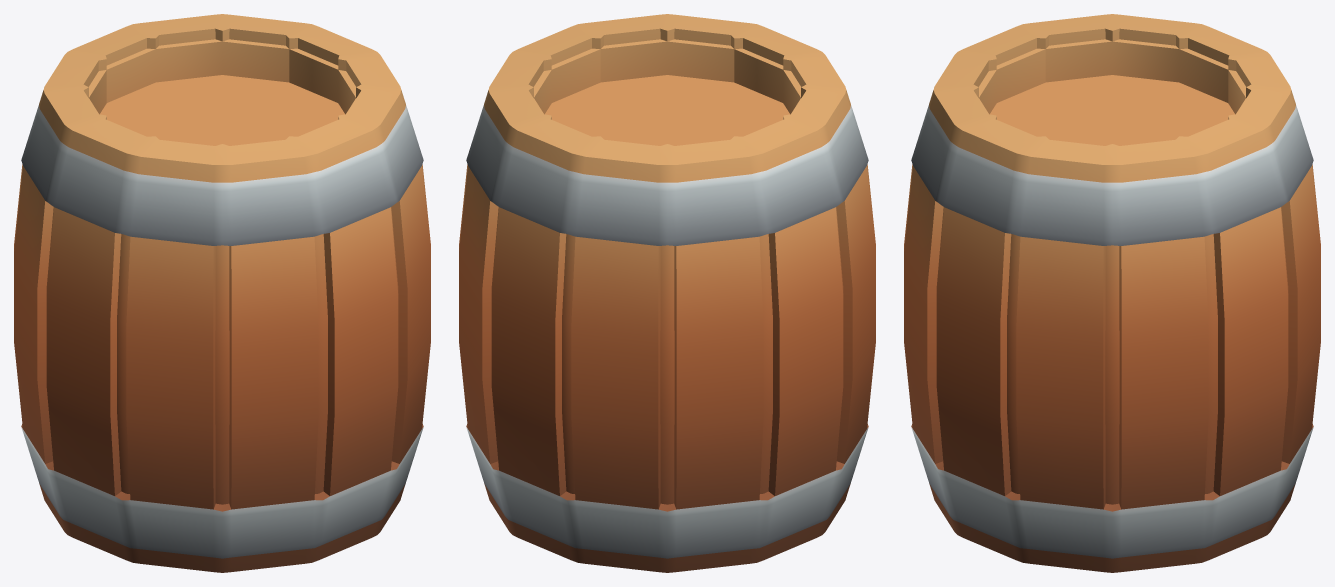
File: Barrel.fbx
3 renders of one model, left to right at view 1: azimuth 30°, elevation 25°; view 2: azimuth 150°, elevation 25°; view 3: azimuth 270°, elevation 25°, orthographic.
Visible parts, largest first — view 1: Barrel.001; view 2: Barrel.001; view 3: Barrel.001.
Boxes of the visible parts, box(x1,y1,x2,y2) form: Barrel.001: box(14, 14, 430, 572); Barrel.001: box(459, 14, 875, 572); Barrel.001: box(904, 14, 1320, 572).
Size of the model in its own units: 0.2969 by 0.3241 by 0.2969.
